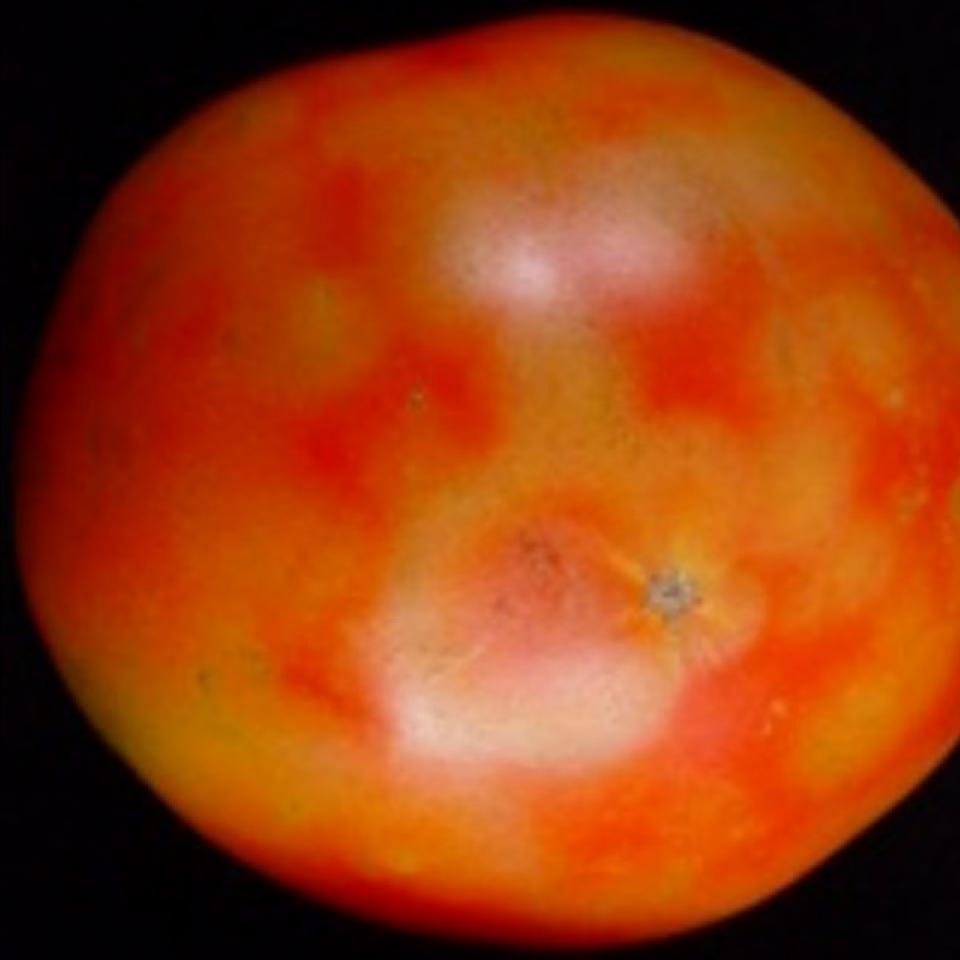Spotted wilt Virus: (14, 10, 960, 947)
